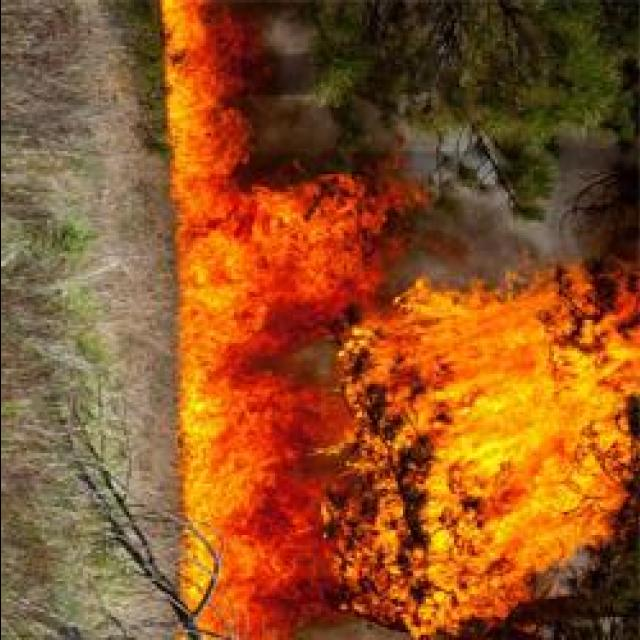fire: (346, 278, 624, 466), (242, 438, 482, 619), (178, 363, 264, 635), (167, 108, 250, 372), (220, 174, 386, 300), (152, 0, 232, 127)
